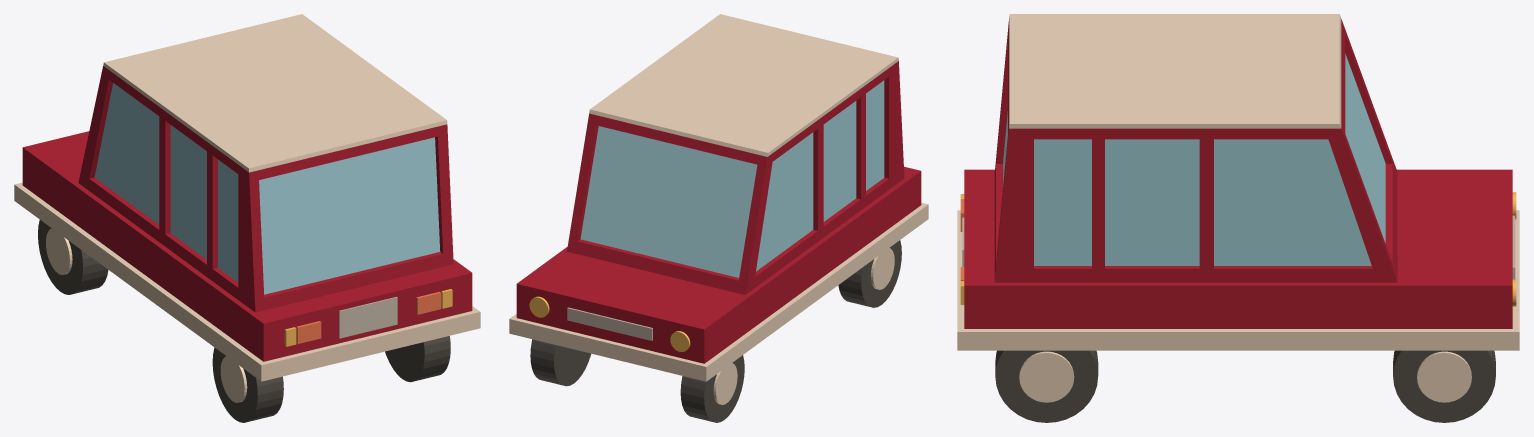
File: uploads_files_2969471_Family+car.fbx
3 renders of one model, left to right at view 1: azimuth 30°, elevation 25°; view 2: azimuth 150°, elevation 25°; view 3: azimuth 270°, elevation 25°, orthographic. The views are drawn at different scales.
Visible parts, largest first — view 1: carroceria; view 2: carroceria; view 3: carroceria.
Boxes of the visible parts, left/top/right/bottom form: carroceria: left=14, top=14, right=480, bottom=422; carroceria: left=509, top=14, right=928, bottom=422; carroceria: left=957, top=14, right=1519, bottom=422.
Size of the model in its own units: 840 by 966 by 1640.
